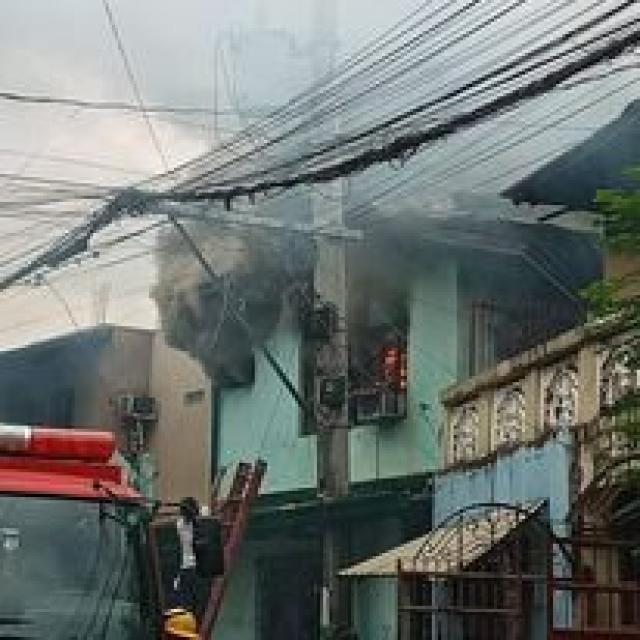Fire: (376, 336, 416, 391)
Smoke: (144, 168, 316, 382)
